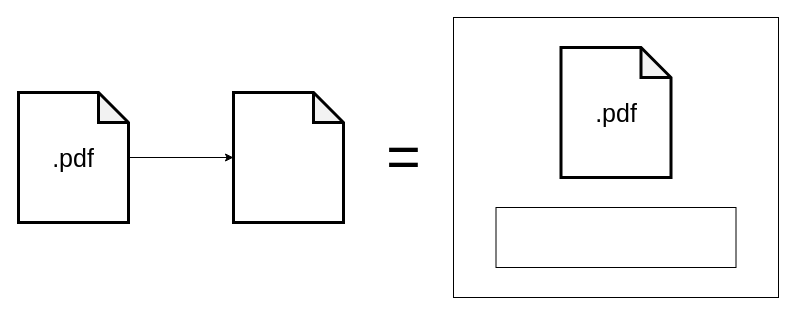
The diagram is 796 pixels wide and 315 high, and some of its shapes have lost their labels. The shapes that lost their labels are listed below. From the top down, each one's box as (x1, y1, x2, y2) in pixels, then its label:
(232, 90, 344, 224): .json
(495, 206, 736, 268): Kartu Digital
